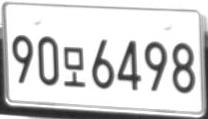0: (37, 35, 59, 85)
4: (116, 40, 141, 89)
6: (91, 39, 114, 88)
8: (172, 42, 195, 93)
9: (144, 40, 167, 90), (11, 34, 33, 83)
모: (63, 47, 85, 87)
